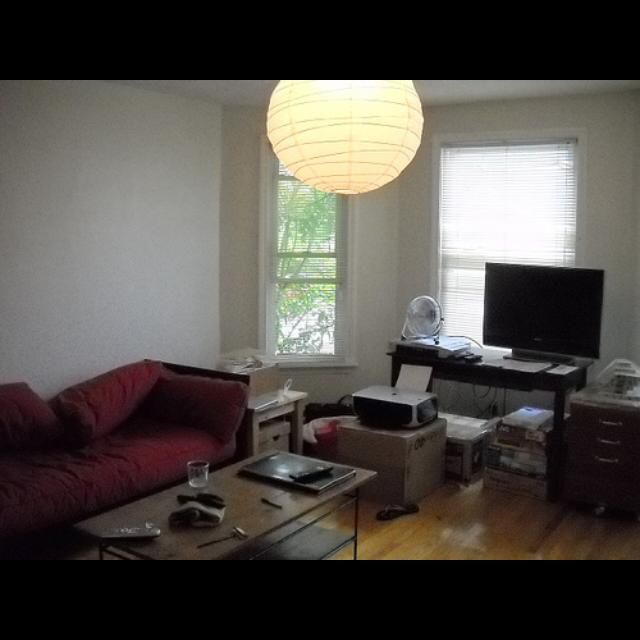Flat-Panel-TV: (483, 262, 605, 359)
TV-Remote-Control: (100, 527, 161, 539), (289, 464, 334, 480)
